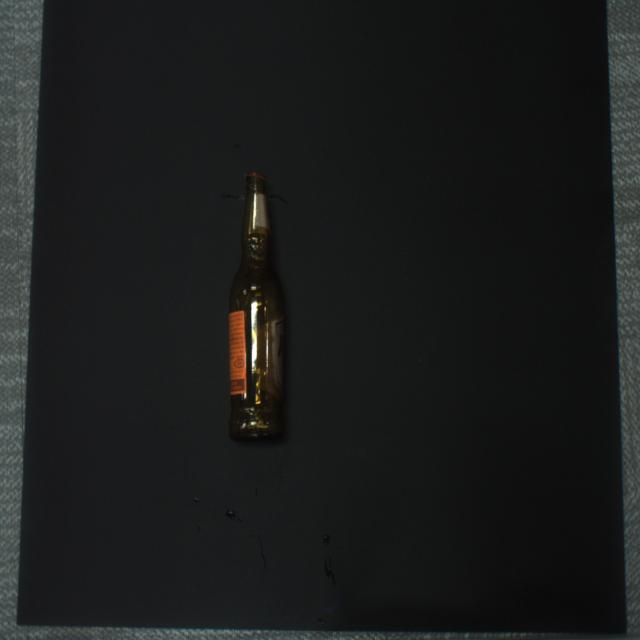beer-bottle: (229, 172, 284, 439)
